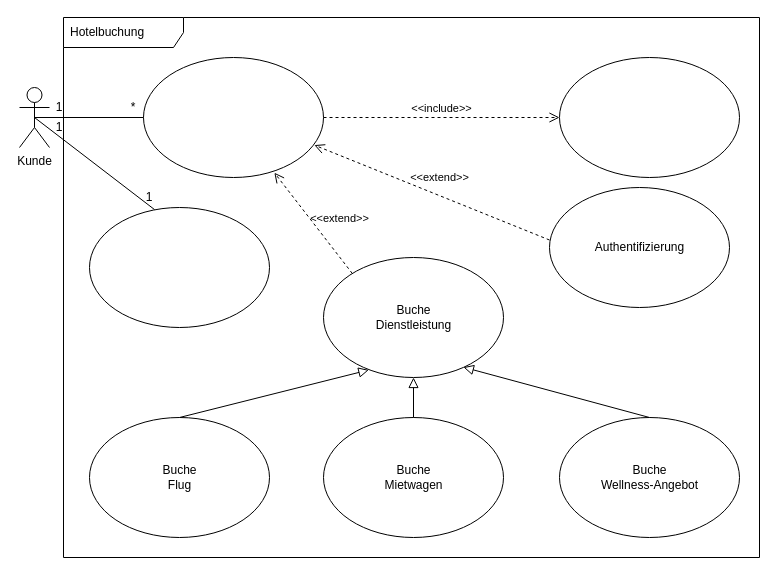
The diagram is 777 pixels wide and 575 high, and some of its shapes have lost their labels. Each missing label, with the box of its shape:
Buche Hotelzimmer: (142, 56, 324, 178)
Registrierung: (88, 206, 270, 328)
Zahlungsvorgang: (558, 56, 740, 178)
